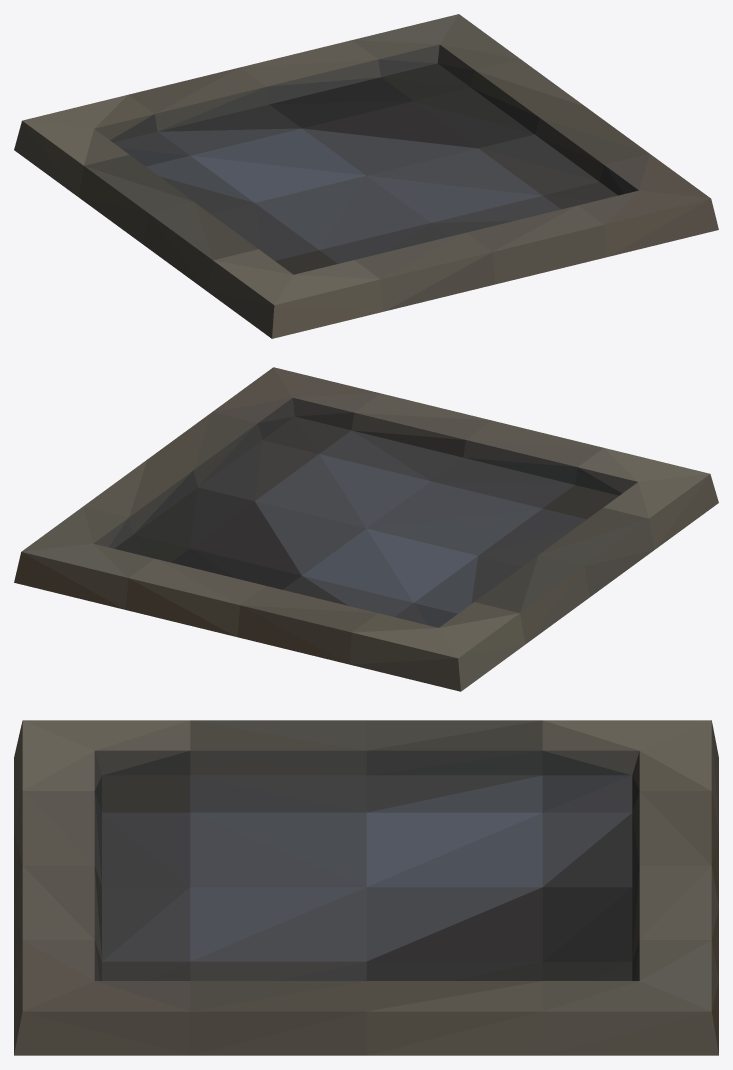
The model's file is floor_bordered_4m_1.fbx.
The picture shows the model from 3 angles, top to bottom: view 1: azimuth 30°, elevation 25°; view 2: azimuth 150°, elevation 25°; view 3: azimuth 270°, elevation 25°; orthographic projection. The views are drawn at different scales.
Parts seen in each view (by area): view 1: floor_bordered_4m_1; view 2: floor_bordered_4m_1; view 3: floor_bordered_4m_1.
Boxes of the visible parts, bbox=[...] form: floor_bordered_4m_1: bbox=[14, 14, 718, 338]; floor_bordered_4m_1: bbox=[14, 367, 718, 691]; floor_bordered_4m_1: bbox=[14, 720, 718, 1055].
Bounding box in the file's own units: 4 × 0.2573 × 4.
